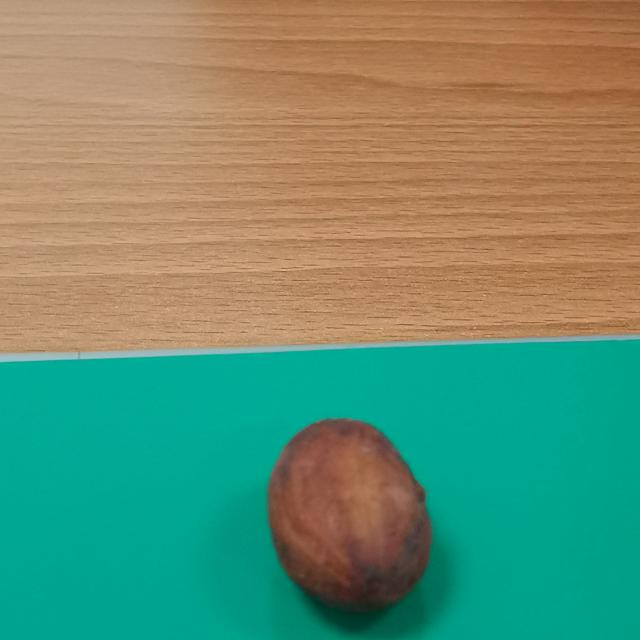Fine_cocoabeans: (155, 384, 493, 640)
